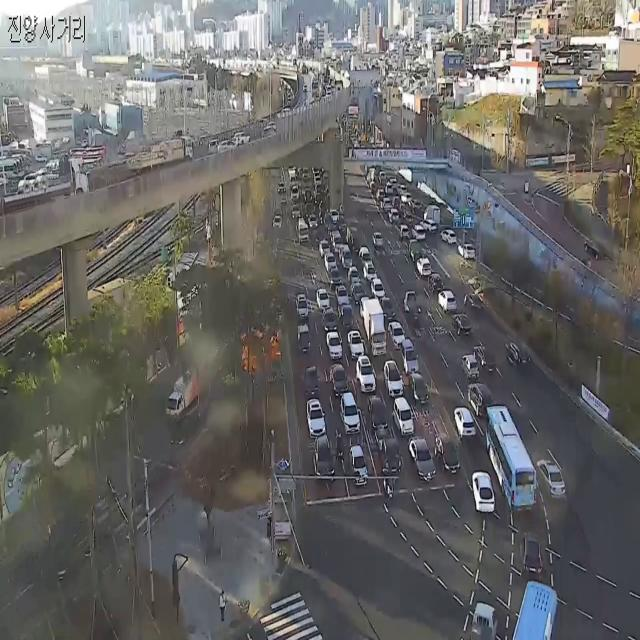bus: (379, 458, 403, 506), (337, 437, 350, 469)
car: (486, 406, 540, 516), (513, 573, 561, 640)
motorcycle: (306, 436, 336, 484), (408, 438, 435, 482), (470, 473, 494, 519), (520, 532, 545, 576), (455, 404, 479, 447), (543, 455, 563, 506), (506, 341, 534, 374), (340, 397, 360, 440), (470, 381, 490, 423), (436, 431, 456, 470), (410, 372, 430, 410), (357, 356, 378, 392), (453, 307, 474, 342), (354, 443, 368, 495), (384, 363, 405, 397), (476, 344, 498, 376), (395, 401, 415, 435), (401, 334, 416, 378), (462, 352, 482, 384), (331, 364, 352, 394), (370, 392, 386, 430), (307, 403, 325, 436), (305, 363, 321, 399), (440, 285, 456, 320), (349, 327, 364, 362), (458, 238, 476, 266), (436, 229, 458, 250), (371, 228, 389, 253), (430, 272, 444, 304), (389, 321, 402, 352), (466, 293, 485, 313), (327, 331, 340, 359), (326, 264, 339, 292), (410, 221, 428, 241), (379, 298, 394, 322), (352, 280, 367, 304), (234, 131, 252, 151), (317, 288, 330, 314), (419, 255, 431, 283), (294, 296, 308, 320), (420, 218, 438, 236), (321, 253, 336, 274), (207, 136, 221, 158), (322, 307, 338, 326), (339, 247, 352, 270), (374, 277, 386, 300), (359, 294, 370, 319), (399, 219, 409, 245), (359, 244, 369, 270), (338, 284, 350, 304), (318, 238, 330, 258), (364, 264, 376, 284), (333, 230, 342, 255), (410, 199, 427, 212), (262, 122, 278, 135), (220, 142, 236, 154), (291, 183, 303, 199), (273, 208, 282, 229), (380, 198, 394, 211), (350, 264, 358, 286), (390, 206, 399, 225), (278, 182, 290, 195), (308, 215, 319, 229), (292, 204, 302, 218), (401, 192, 414, 201), (302, 83, 310, 95), (326, 87, 332, 92), (326, 92, 331, 96)
truck: (0, 161, 93, 209), (128, 131, 196, 184), (167, 374, 209, 416), (464, 597, 500, 640), (362, 301, 386, 356), (373, 432, 402, 477), (425, 201, 445, 226), (294, 218, 311, 246), (408, 237, 426, 263), (338, 301, 355, 326), (312, 76, 319, 97)
